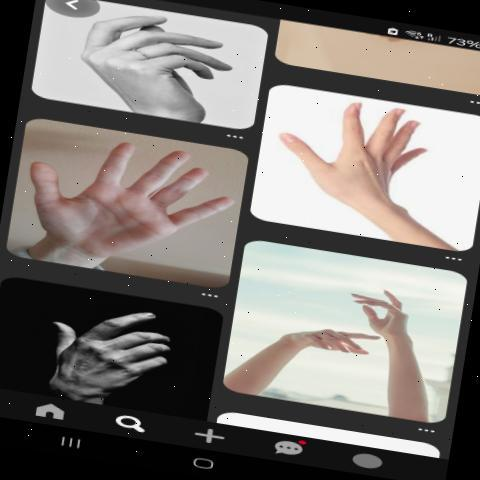Hands: (23, 131, 236, 263), (270, 88, 463, 226), (30, 291, 211, 415), (71, 5, 250, 128), (261, 317, 389, 370), (350, 284, 425, 336)
